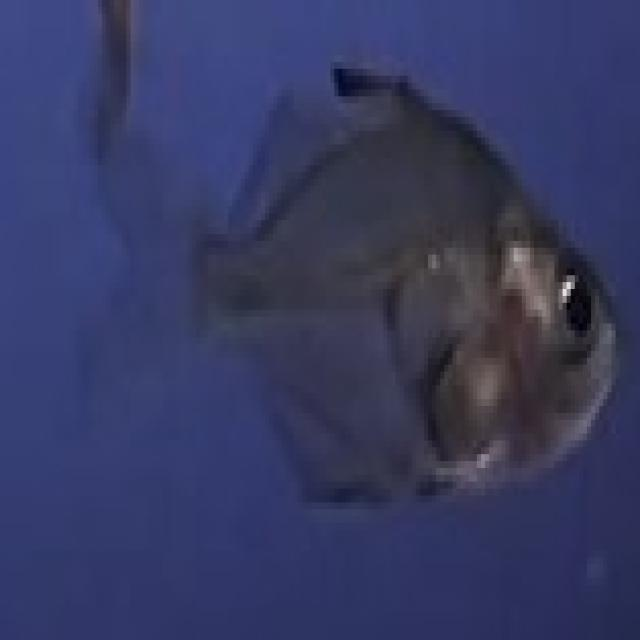Glass-Perchlet: (142, 0, 640, 569)
